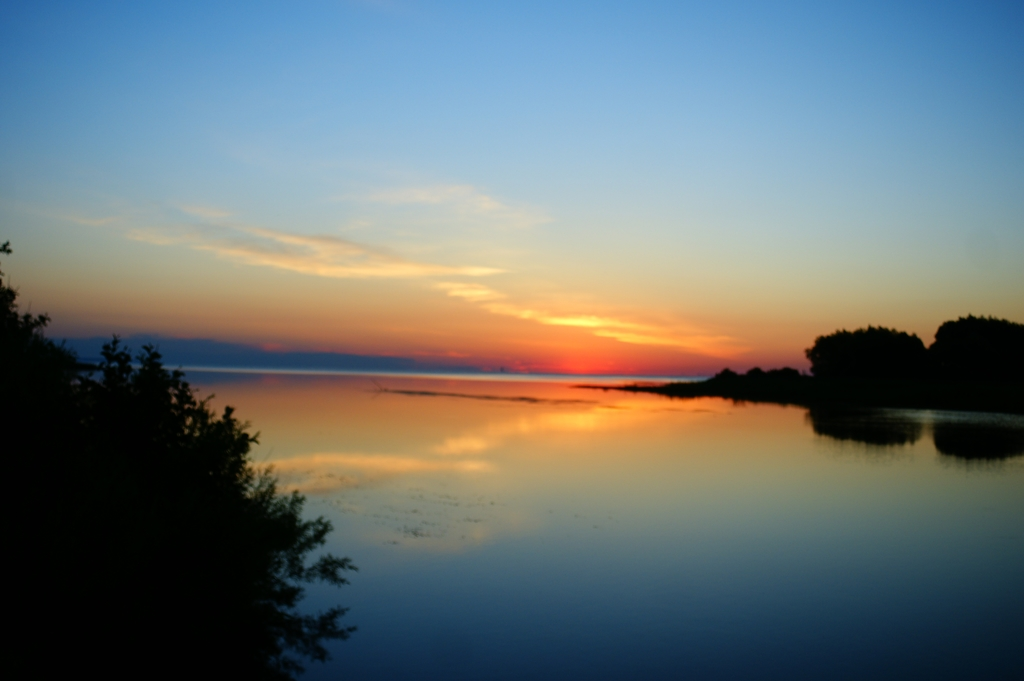Tree: (30, 322, 347, 654)
